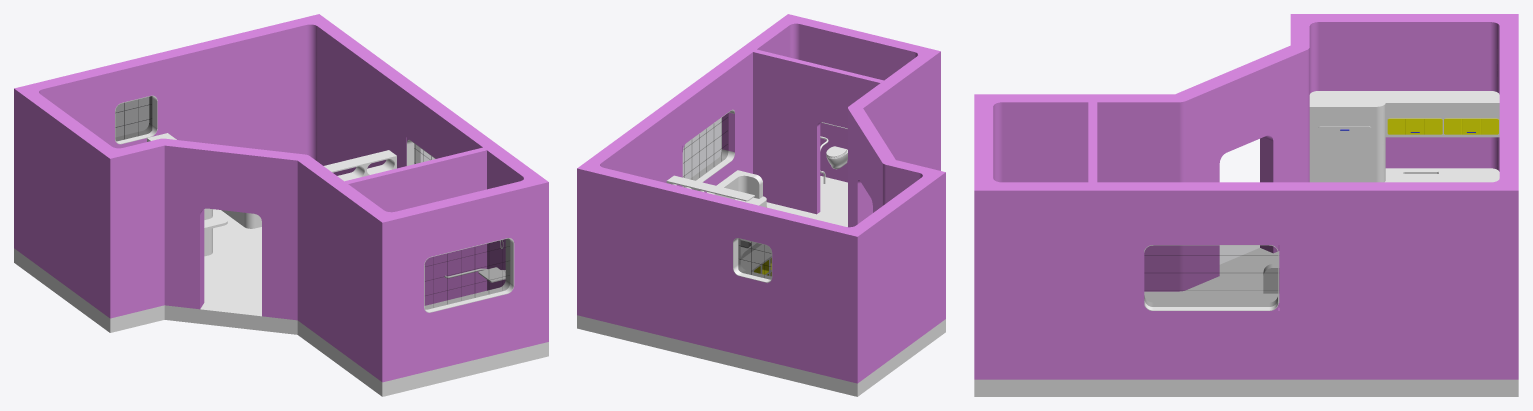
Rendered from mobility typeC OptionA.glb.
3 renders of one model, left to right at view 1: azimuth 30°, elevation 25°; view 2: azimuth 150°, elevation 25°; view 3: azimuth 270°, elevation 25°, orthographic. The views are drawn at different scales.
Parts seen in each view (by area): view 1: wall, floor, 玻璃, 窗框（金属）, 架子（木板）, 橱柜，木制或者整体性强的材质; view 2: wall, floor, 玻璃, 窗框（金属）, 沙发（15MM 软包边-皮质）, 架子（木板）, 橱柜，木制或者整体性强的材质, 马桶(陶瓷）; view 3: wall, floor, 橱柜，木制或者整体性强的材质, 玻璃, 洗碗机玻璃, 柜门，区别于整体的柜子, 窗框（金属）, 沙发（15MM 软包边-皮质）, 洗碗机金属边框.
Part boxes in pixels (x1=…): wall: x1=14, y1=14, x2=548, y2=382; floor: x1=14, y1=209, x2=548, y2=396; 玻璃: x1=115, y1=96, x2=509, y2=309; 窗框（金属）: x1=115, y1=95, x2=514, y2=312; 架子（木板）: x1=324, y1=150, x2=396, y2=181; 橱柜，木制或者整体性强的材质: x1=147, y1=133, x2=227, y2=256; wall: x1=577, y1=14, x2=945, y2=383; floor: x1=577, y1=176, x2=945, y2=396; 玻璃: x1=683, y1=113, x2=771, y2=279; 窗框（金属）: x1=682, y1=109, x2=847, y2=282; 沙发（15MM 软包边-皮质）: x1=707, y1=170, x2=762, y2=199; 架子（木板）: x1=666, y1=175, x2=754, y2=201; 橱柜，木制或者整体性强的材质: x1=740, y1=244, x2=771, y2=275; 马桶(陶瓷）: x1=826, y1=146, x2=847, y2=169; wall: x1=974, y1=14, x2=1518, y2=379; floor: x1=974, y1=248, x2=1518, y2=396; 橱柜，木制或者整体性强的材质: x1=1309, y1=91, x2=1499, y2=182; 玻璃: x1=1144, y1=245, x2=1277, y2=306; 洗碗机玻璃: x1=1320, y1=128, x2=1369, y2=172; 柜门，区别于整体的柜子: x1=1387, y1=118, x2=1498, y2=134; 窗框（金属）: x1=1144, y1=245, x2=1278, y2=310; 沙发（15MM 软包边-皮质）: x1=1263, y1=264, x2=1279, y2=293; 洗碗机金属边框: x1=1318, y1=126, x2=1371, y2=174.
Size of the model in its own units: 6.6 by 3.6 by 8.6.
